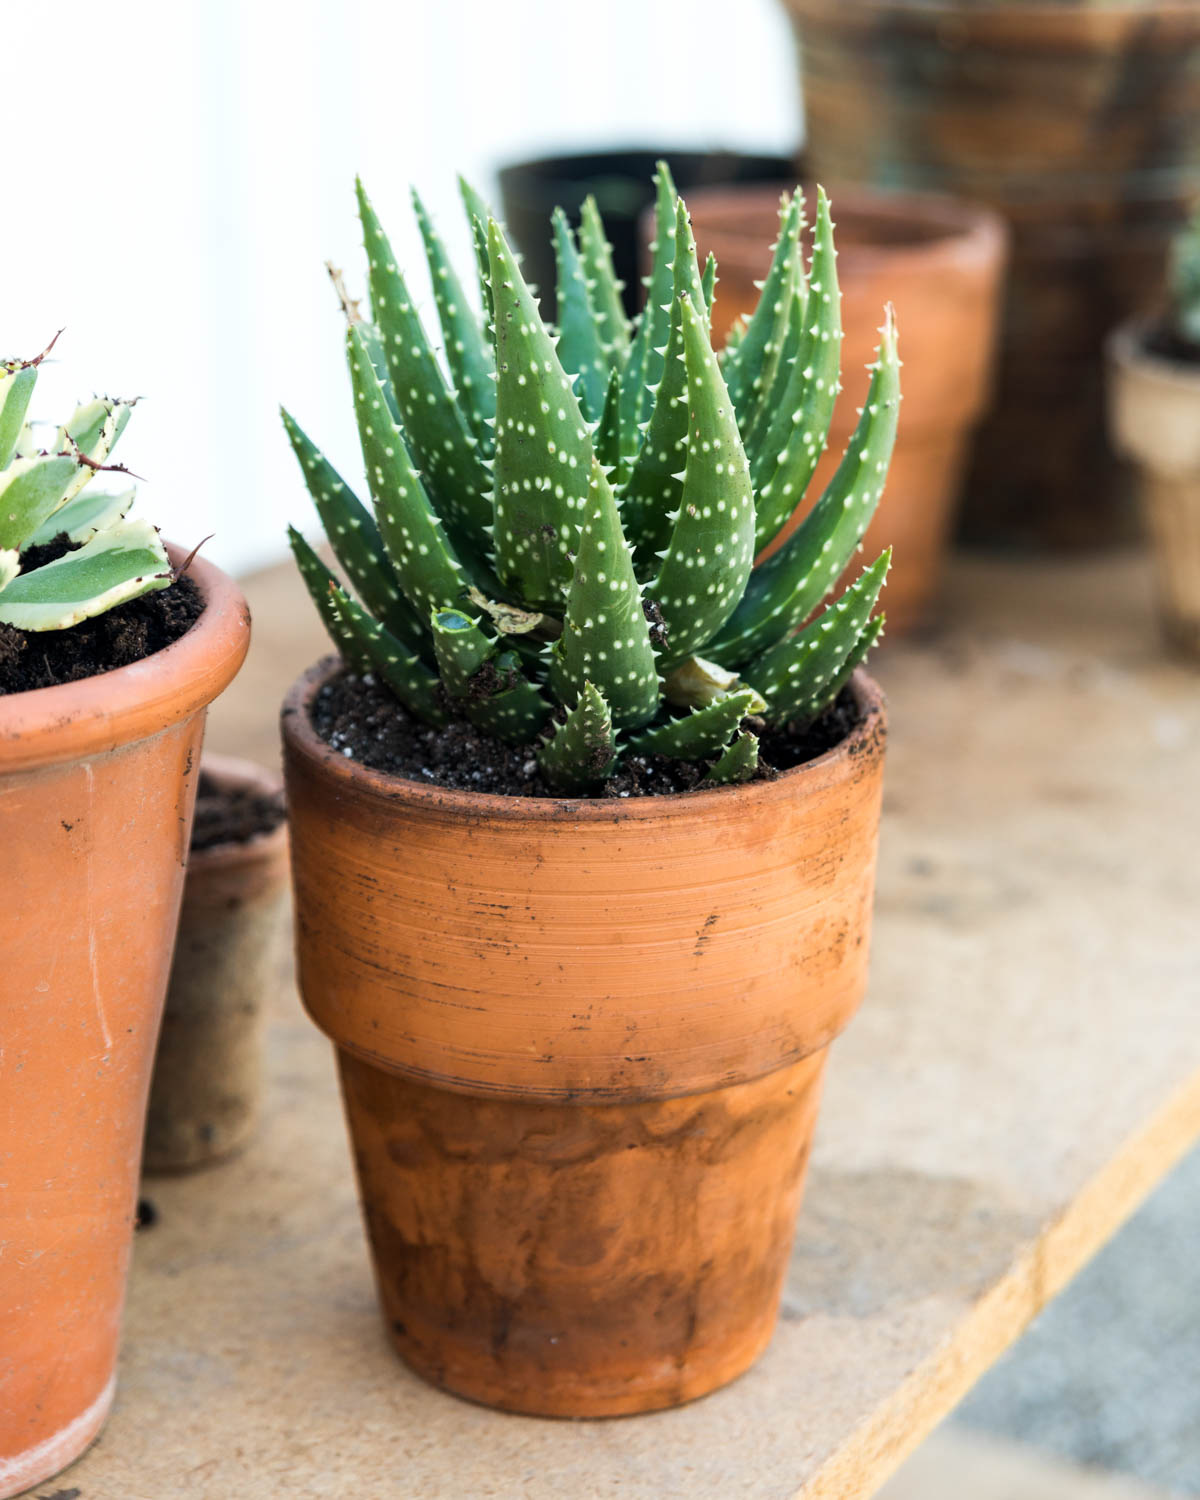plant: (282, 159, 899, 1430)
